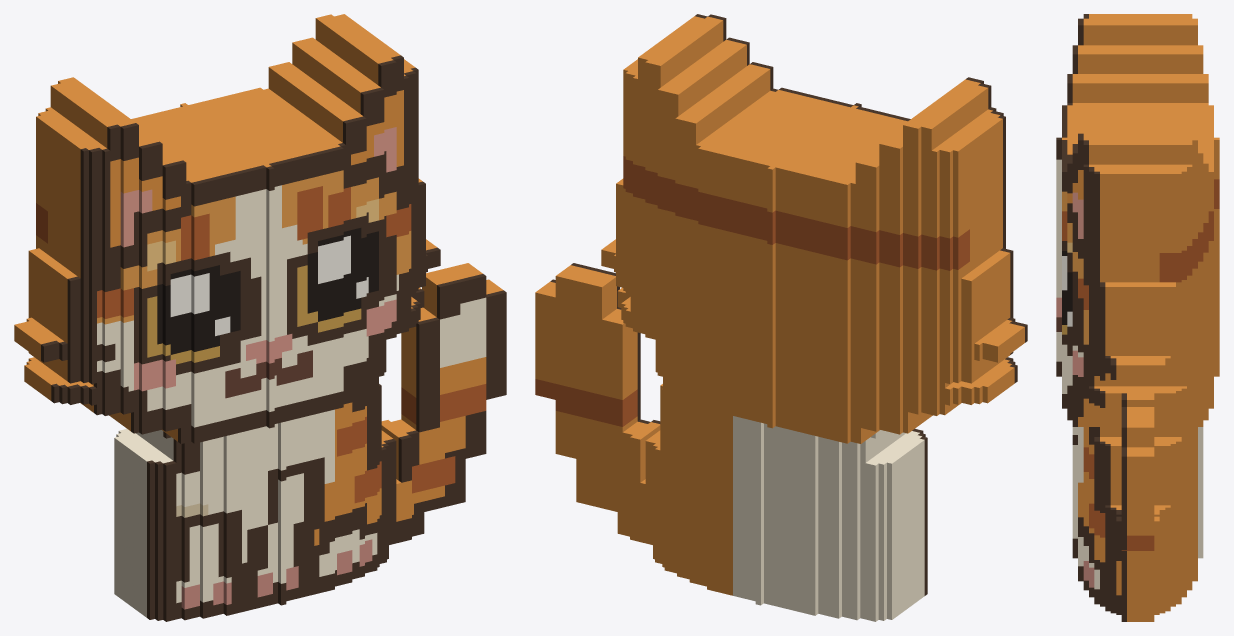
File: morfeu-voxel-v01.glb
3 views of the same model, side by side, from view 1: azimuth 30°, elevation 25°; view 2: azimuth 150°, elevation 25°; view 3: azimuth 270°, elevation 25° (orthographic). The views are drawn at different scales.
Parts seen in each view (by area): view 1: Morfeu • original sprite in volume; view 2: Morfeu • original sprite in volume; view 3: Morfeu • original sprite in volume.
Boxes of the visible parts, left/top/right/bottom form: Morfeu • original sprite in volume: left=14, top=14, right=506, bottom=621; Morfeu • original sprite in volume: left=535, top=14, right=1027, bottom=621; Morfeu • original sprite in volume: left=1056, top=14, right=1219, bottom=621.
Bounding box in the file's own units: 2.27 × 2.37 × 0.75.
